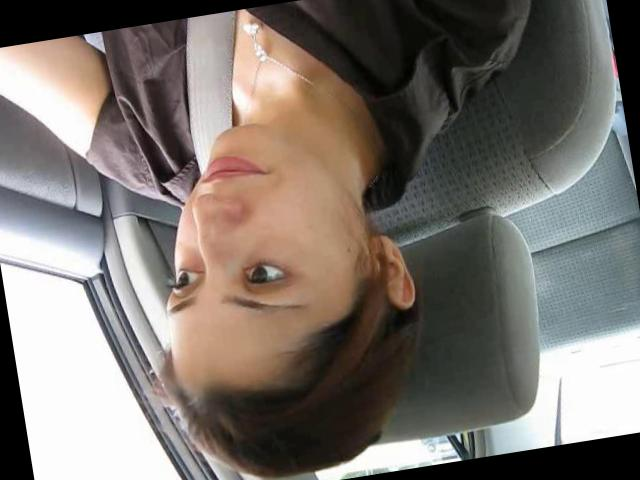eye_open: (235, 248, 298, 300), (169, 260, 207, 298)
face: (137, 110, 356, 356)
